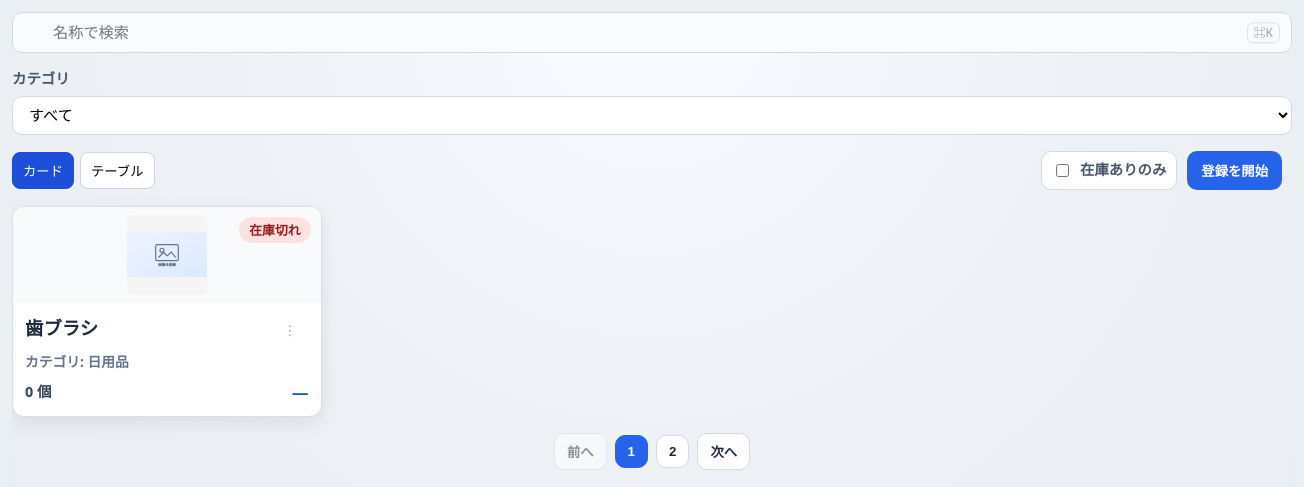
Test: ItemListPage › 在庫ありのみチェックをサーバーへ渡して絞り込む
This screenshot has width=1304, height=487.
Click the checkbox with test id "stock-only-checkbox" at (1062, 170), box [1056, 164, 1069, 177]
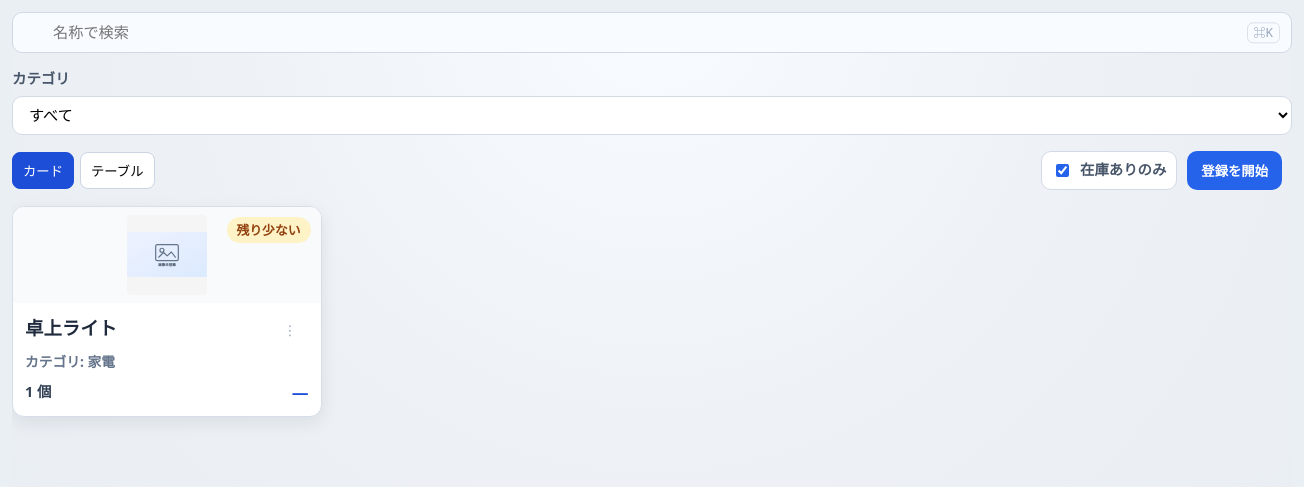
Check: the text "卓上ライト" is shown, box [25, 315, 117, 342]
Check: the text "歯ブラシ" is gone
